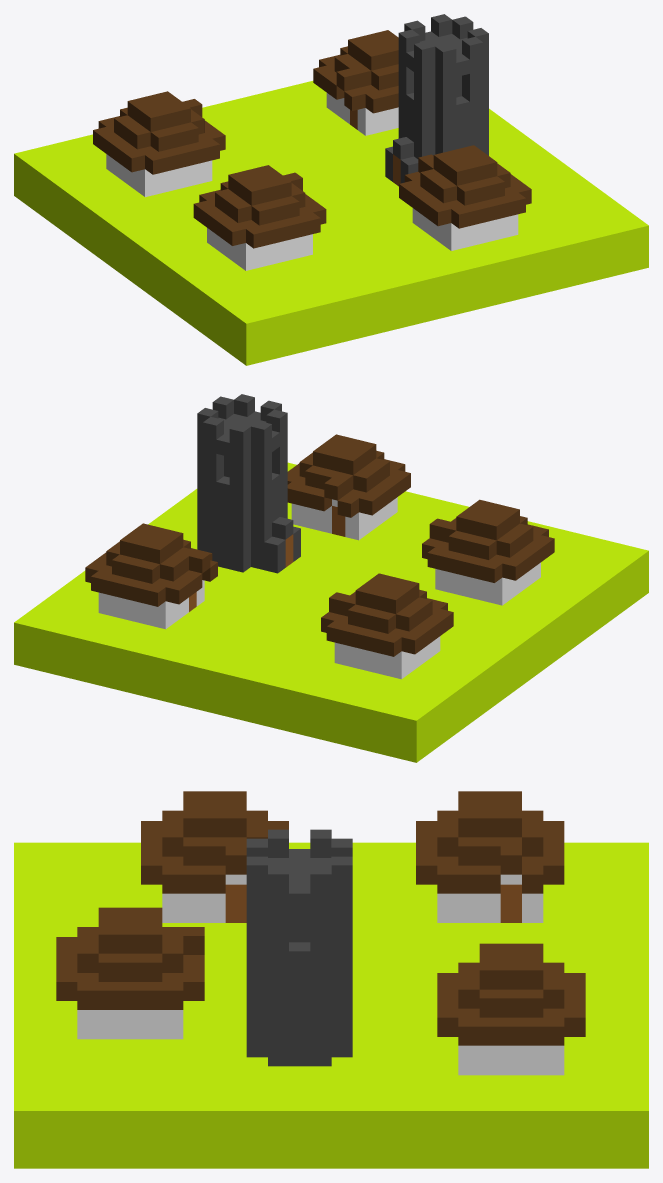
Rendered from City_1.obj.
3 renders of one model, top to bottom at view 1: azimuth 30°, elevation 25°; view 2: azimuth 150°, elevation 25°; view 3: azimuth 270°, elevation 25°, orthographic. The views are drawn at different scales.
Size of the model in its own units: 3 by 1.3 by 3.
